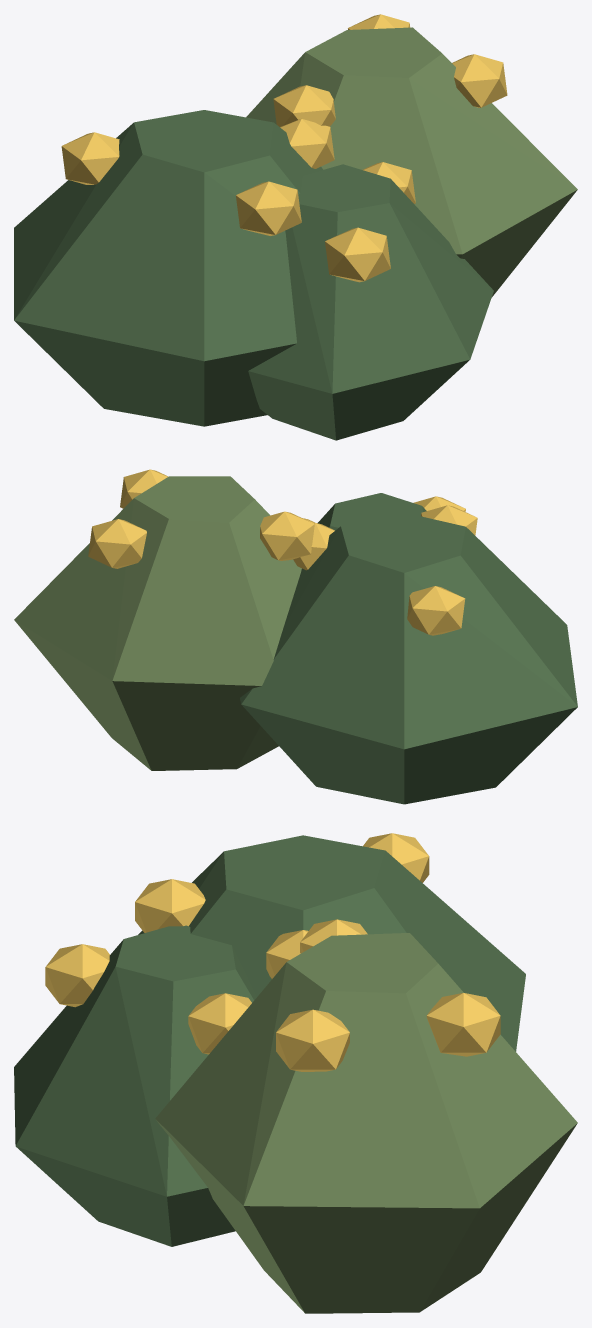
Rendered from gorse.glb.
3 views of the same model, one above another, from view 1: azimuth 30°, elevation 25°; view 2: azimuth 150°, elevation 25°; view 3: azimuth 270°, elevation 25° (orthographic). The views are drawn at different scales.
Visible parts, largest first — view 1: gorse; view 2: gorse; view 3: gorse.
Part boxes in pixels (x1,y1,x2,y2): gorse: (14,14,577,440); gorse: (14,469,577,804); gorse: (14,833,577,1313).
Size of the model in its own units: 0.9275 by 0.43 by 0.7124.
